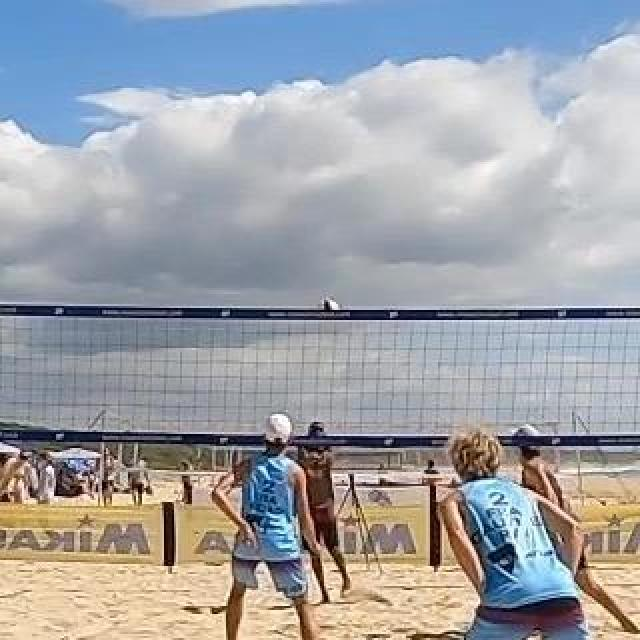volleyball: (318, 296, 342, 318)
